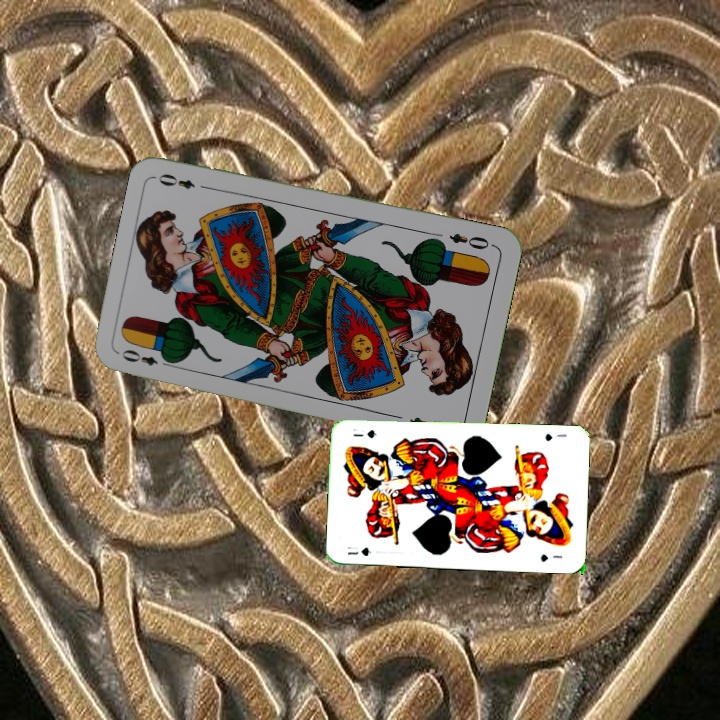EO: (118, 345, 175, 370), (445, 229, 497, 252)
GU: (344, 543, 374, 558), (541, 430, 569, 443)
